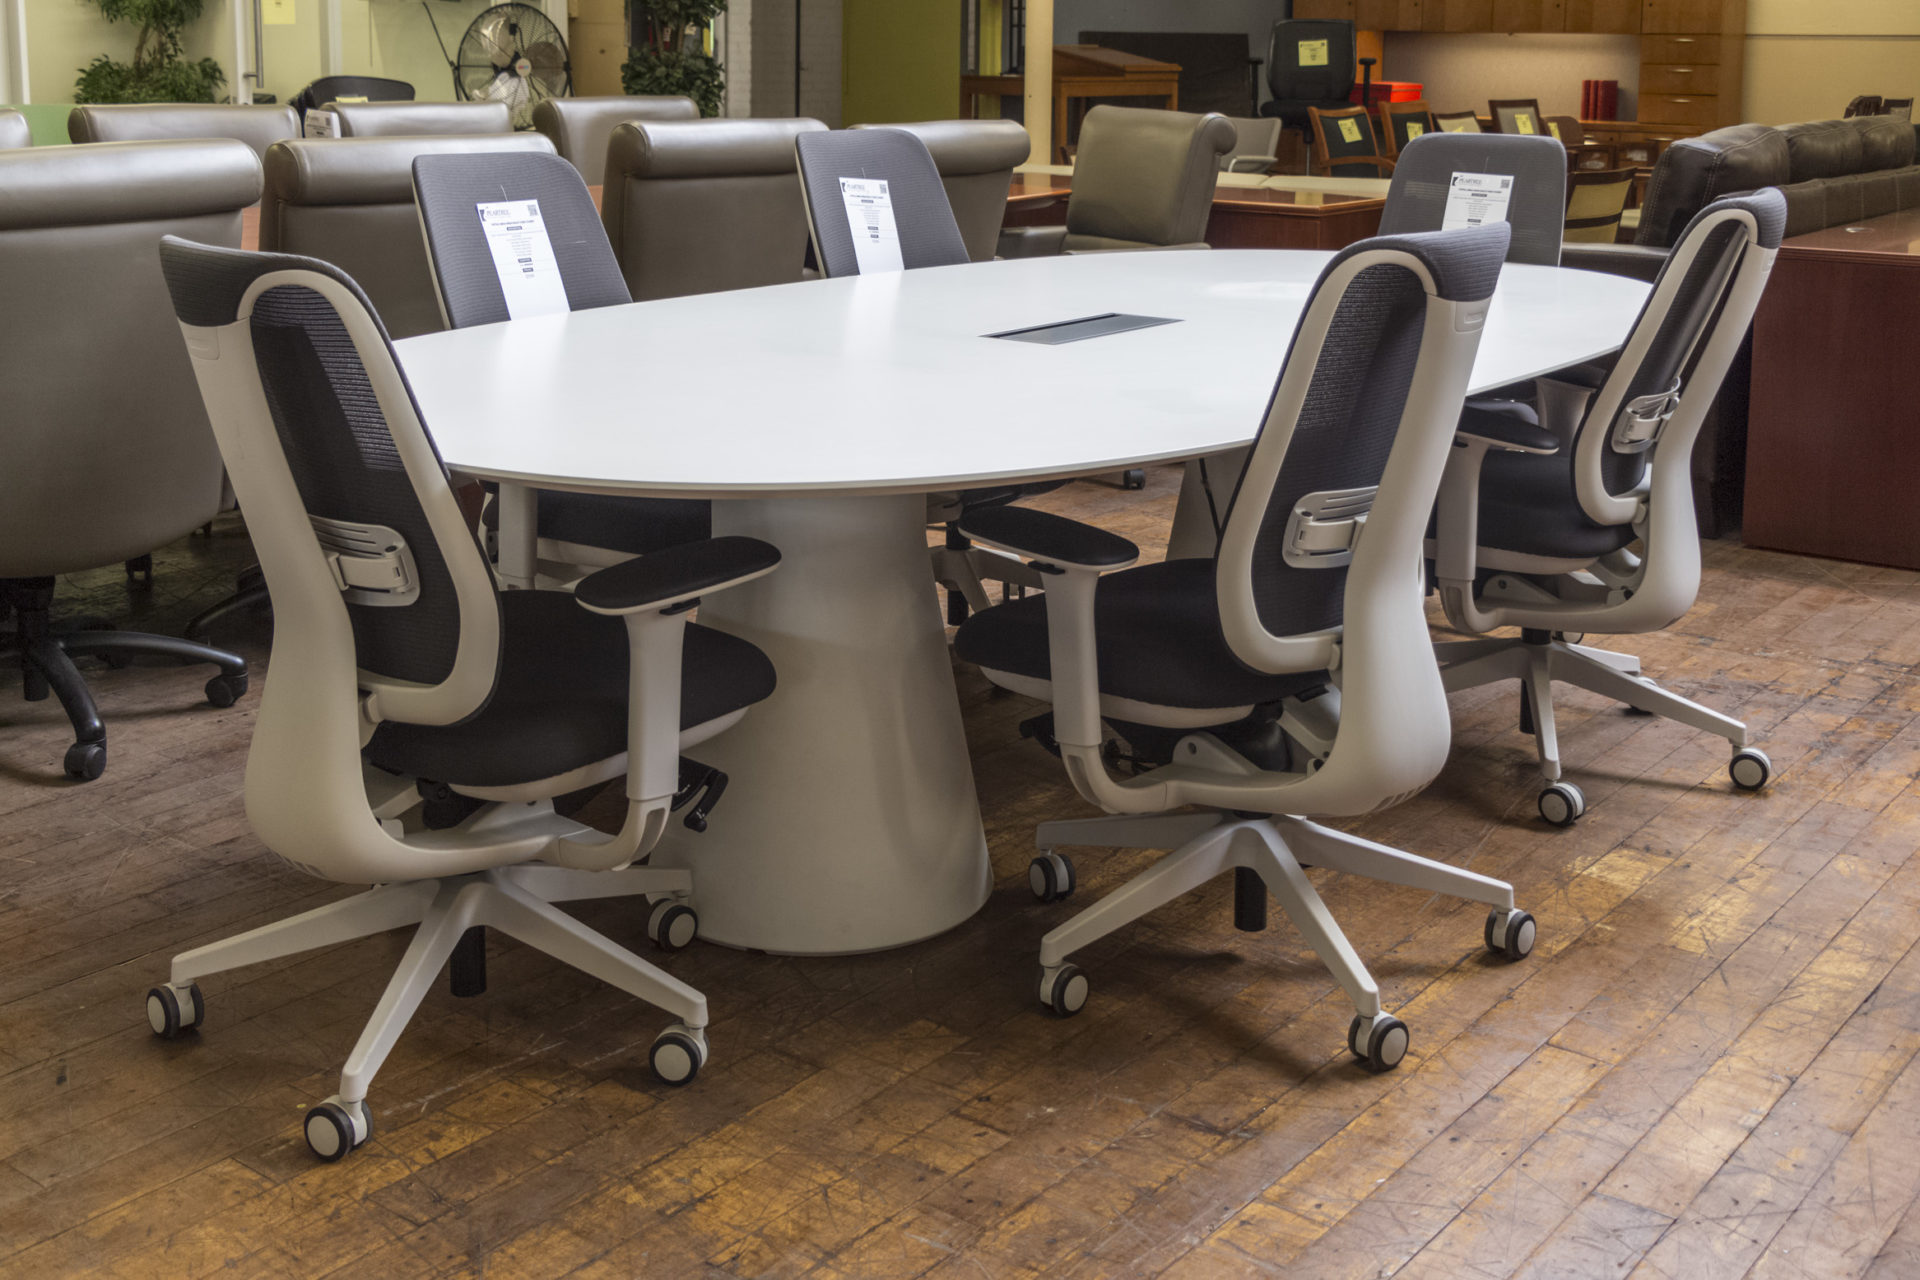conference_table: (366, 248, 1646, 957)
